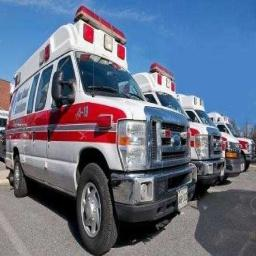Ambulance: (5, 6, 195, 254), (208, 112, 254, 170), (189, 122, 224, 194), (221, 132, 243, 179), (0, 110, 8, 130)
